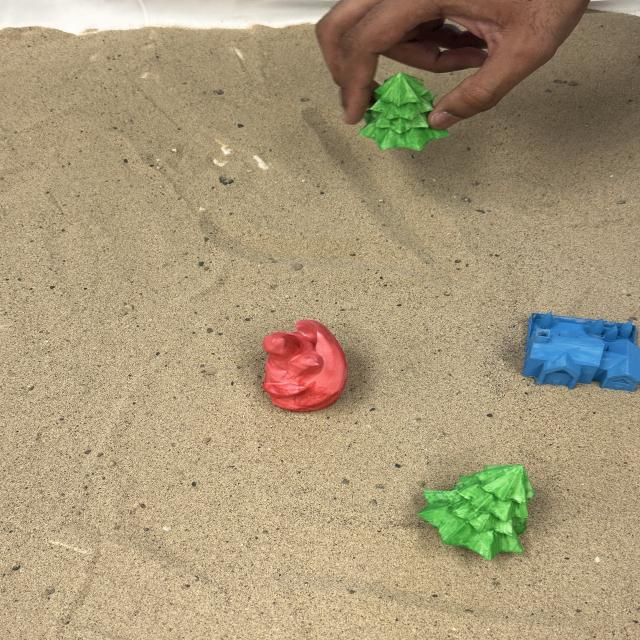fire: (260, 318, 349, 412)
house: (520, 310, 637, 391)
tree: (416, 462, 535, 561), (356, 71, 451, 152)
